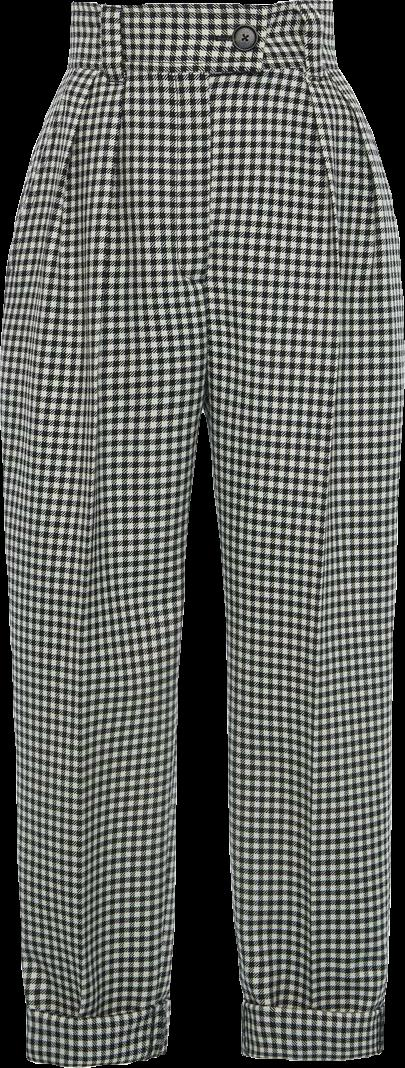Hemline: (24, 1042, 169, 1067), (240, 1044, 387, 1063)
Pantleg: (0, 0, 208, 1067), (198, 0, 404, 1060)
Waistline: (65, 54, 339, 83), (69, 0, 324, 17)
